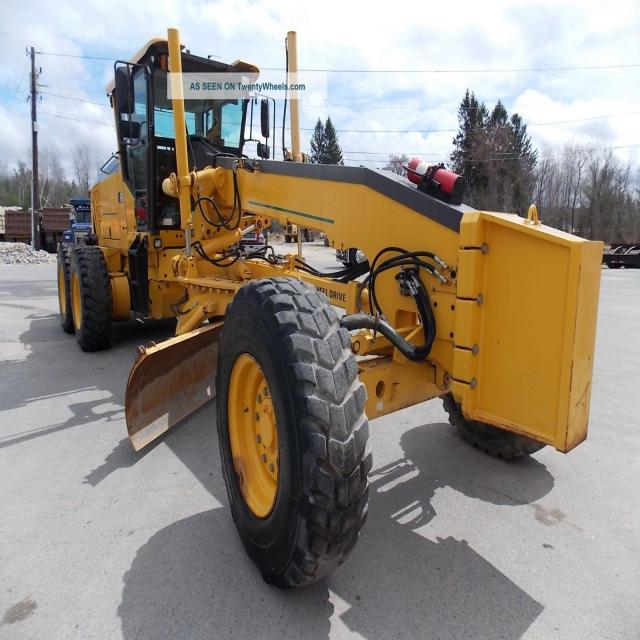Grader: (32, 28, 603, 588)
